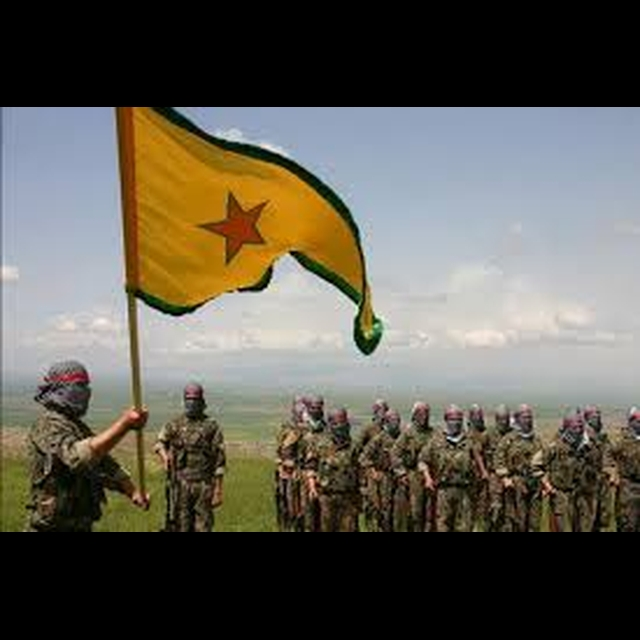YPG: (189, 185, 289, 266)
